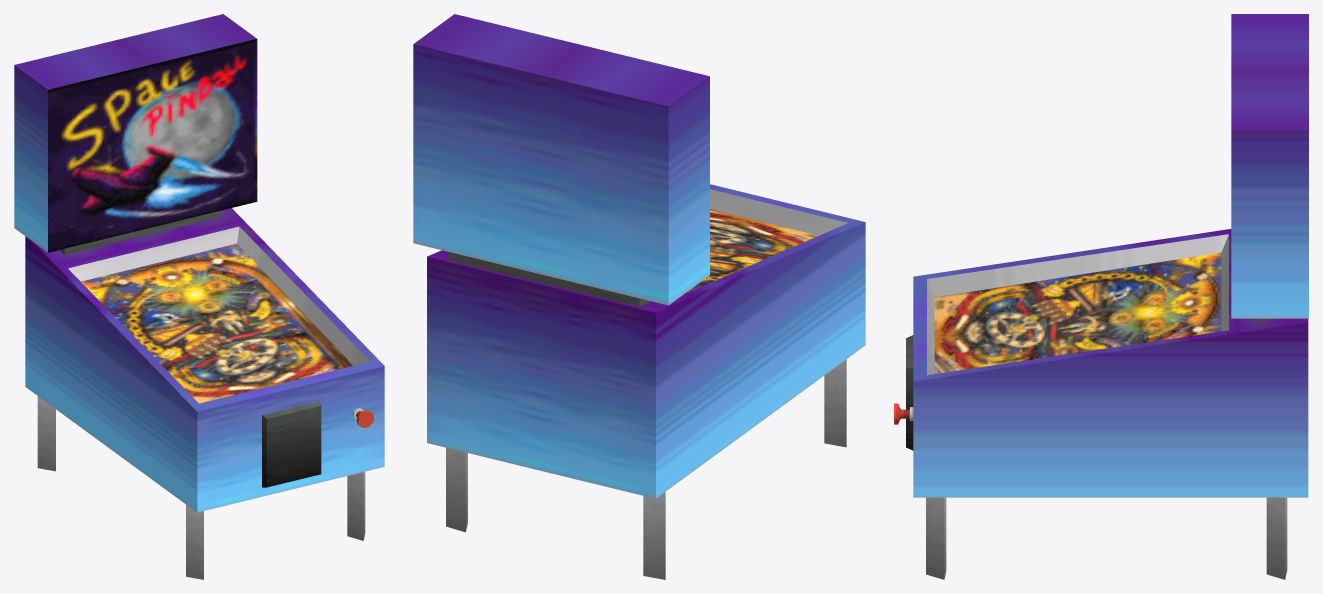
The picture shows the model from 3 angles, left to right: view 1: azimuth 30°, elevation 25°; view 2: azimuth 150°, elevation 25°; view 3: azimuth 270°, elevation 25°; orthographic projection. The views are drawn at different scales.
Visible parts, largest first — view 1: ArcadesAndPinball04; view 2: ArcadesAndPinball04; view 3: ArcadesAndPinball04.
Boxes of the visible parts, box(x1,y1,x2,y2) form: ArcadesAndPinball04: box(14, 14, 384, 579); ArcadesAndPinball04: box(413, 14, 865, 579); ArcadesAndPinball04: box(894, 14, 1308, 579).
Size of what is drawn, in the model's own units: 1.13 by 2.05 by 1.68.
Materials: 1 (1 with a texture image).
